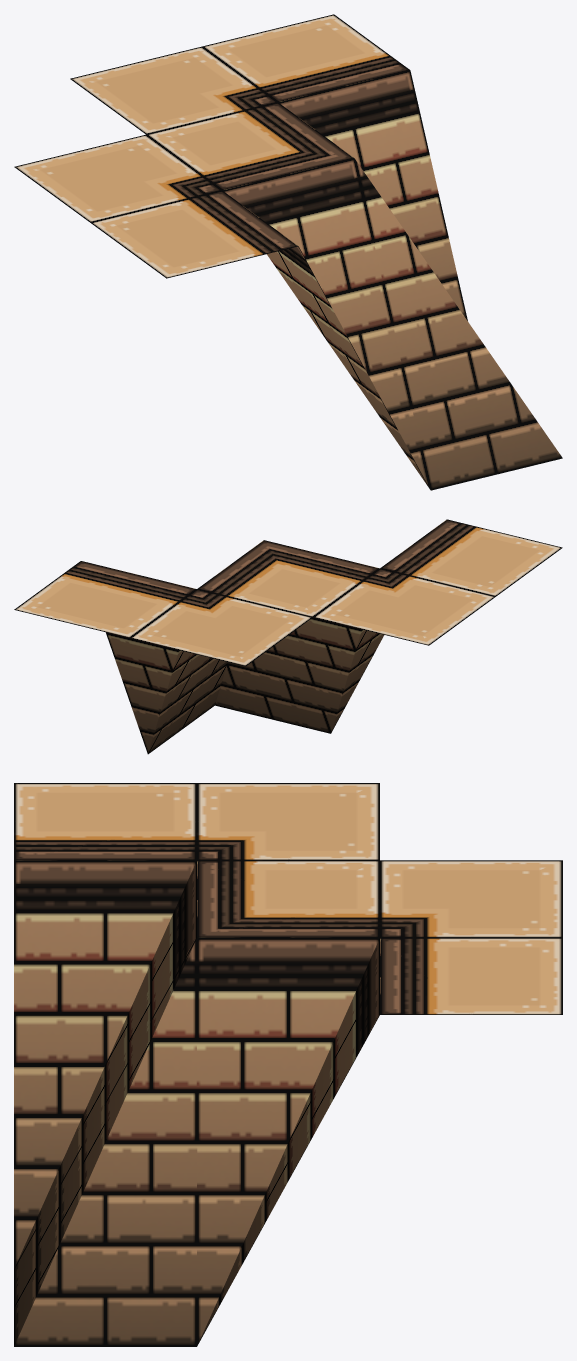
File: wall_cornerInOut.FBX
3 views of the same model, one above another, from view 1: azimuth 30°, elevation 25°; view 2: azimuth 150°, elevation 25°; view 3: azimuth 270°, elevation 25° (orthographic). The views are drawn at different scales.
Parts seen in each view (by area): view 1: wall_cornerInOut; view 2: wall_cornerInOut; view 3: wall_cornerInOut.
Boxes of the visible parts, left/top/right/bottom form: wall_cornerInOut: left=14, top=14, right=562, bottom=490; wall_cornerInOut: left=14, top=519, right=562, bottom=754; wall_cornerInOut: left=14, top=783, right=562, bottom=1346.
Bounding box in the file's own units: 6 × 4 × 6.
1 material, 1 textured.
